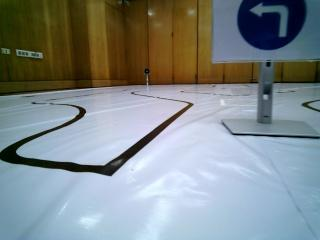left: (217, 0, 318, 60)
